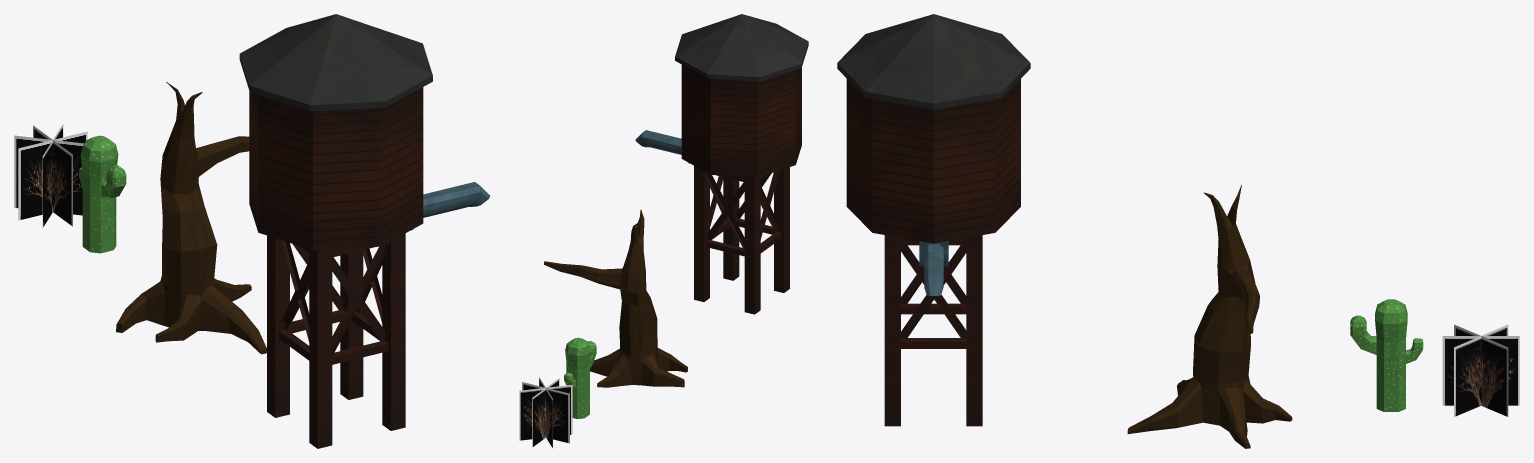
File: landObjects.fbx
3 renders of one model, left to right at view 1: azimuth 30°, elevation 25°; view 2: azimuth 150°, elevation 25°; view 3: azimuth 270°, elevation 25°, orthographic. The views are drawn at different scales.
Visible parts, largest first — view 1: Cylinder, tree, deadbush, cactus; view 2: Cylinder, tree, deadbush, cactus; view 3: Cylinder, tree, deadbush, cactus.
Boxes of the visible parts, x1=… form: Cylinder: x1=239, y1=14, x2=490, y2=448; tree: x1=116, y1=82, x2=266, y2=354; deadbush: x1=14, y1=124, x2=87, y2=227; cactus: x1=78, y1=135, x2=126, y2=253; Cylinder: x1=635, y1=14, x2=808, y2=314; tree: x1=544, y1=210, x2=687, y2=387; deadbush: x1=519, y1=377, x2=572, y2=448; cactus: x1=564, y1=337, x2=596, y2=418; Cylinder: x1=837, y1=14, x2=1030, y2=426; tree: x1=1127, y1=185, x2=1292, y2=448; deadbush: x1=1442, y1=324, x2=1519, y2=416; cactus: x1=1350, y1=299, x2=1423, y2=411.
Size of what is drawn, in the model's own units: 1630 by 2741 by 4177.
